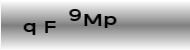9: (68, 7, 82, 21)
F: (44, 19, 57, 34)
M: (84, 12, 102, 27)
p: (104, 14, 116, 29)
q: (22, 21, 36, 35)
